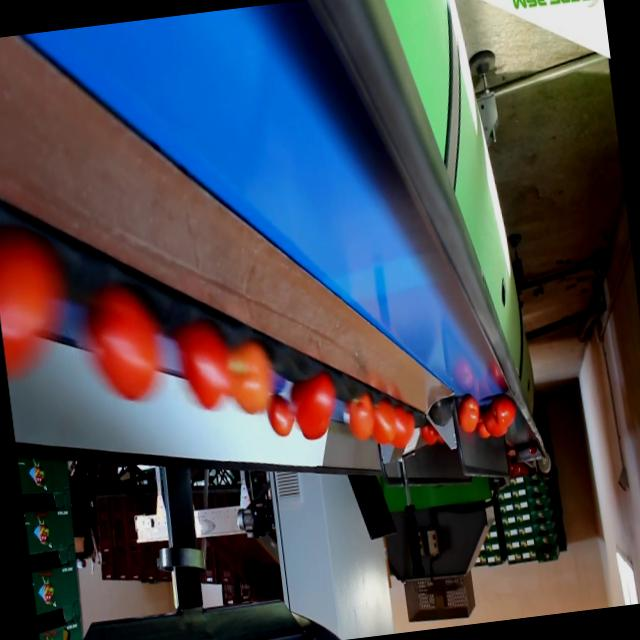Tomato: (82, 280, 168, 408), (0, 233, 68, 385), (172, 316, 238, 418), (223, 337, 280, 417), (285, 370, 338, 444), (342, 392, 378, 442), (384, 405, 419, 451), (368, 399, 399, 444), (266, 396, 296, 438), (488, 397, 516, 428), (455, 398, 479, 430), (418, 422, 436, 447), (486, 418, 504, 436), (477, 418, 488, 442)
